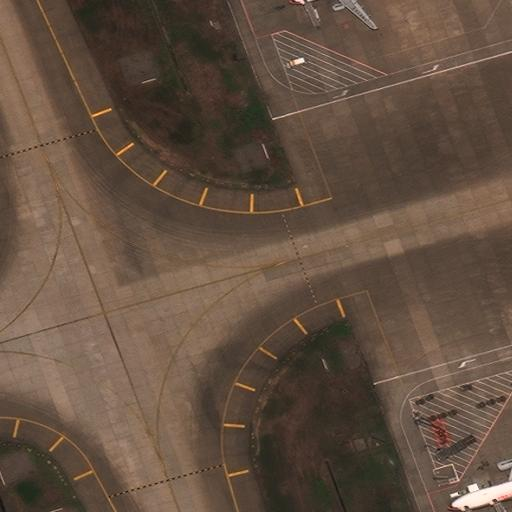Large Civil Transport: (446, 418, 512, 511)
Medium Civil Transport: (289, 0, 389, 30)
